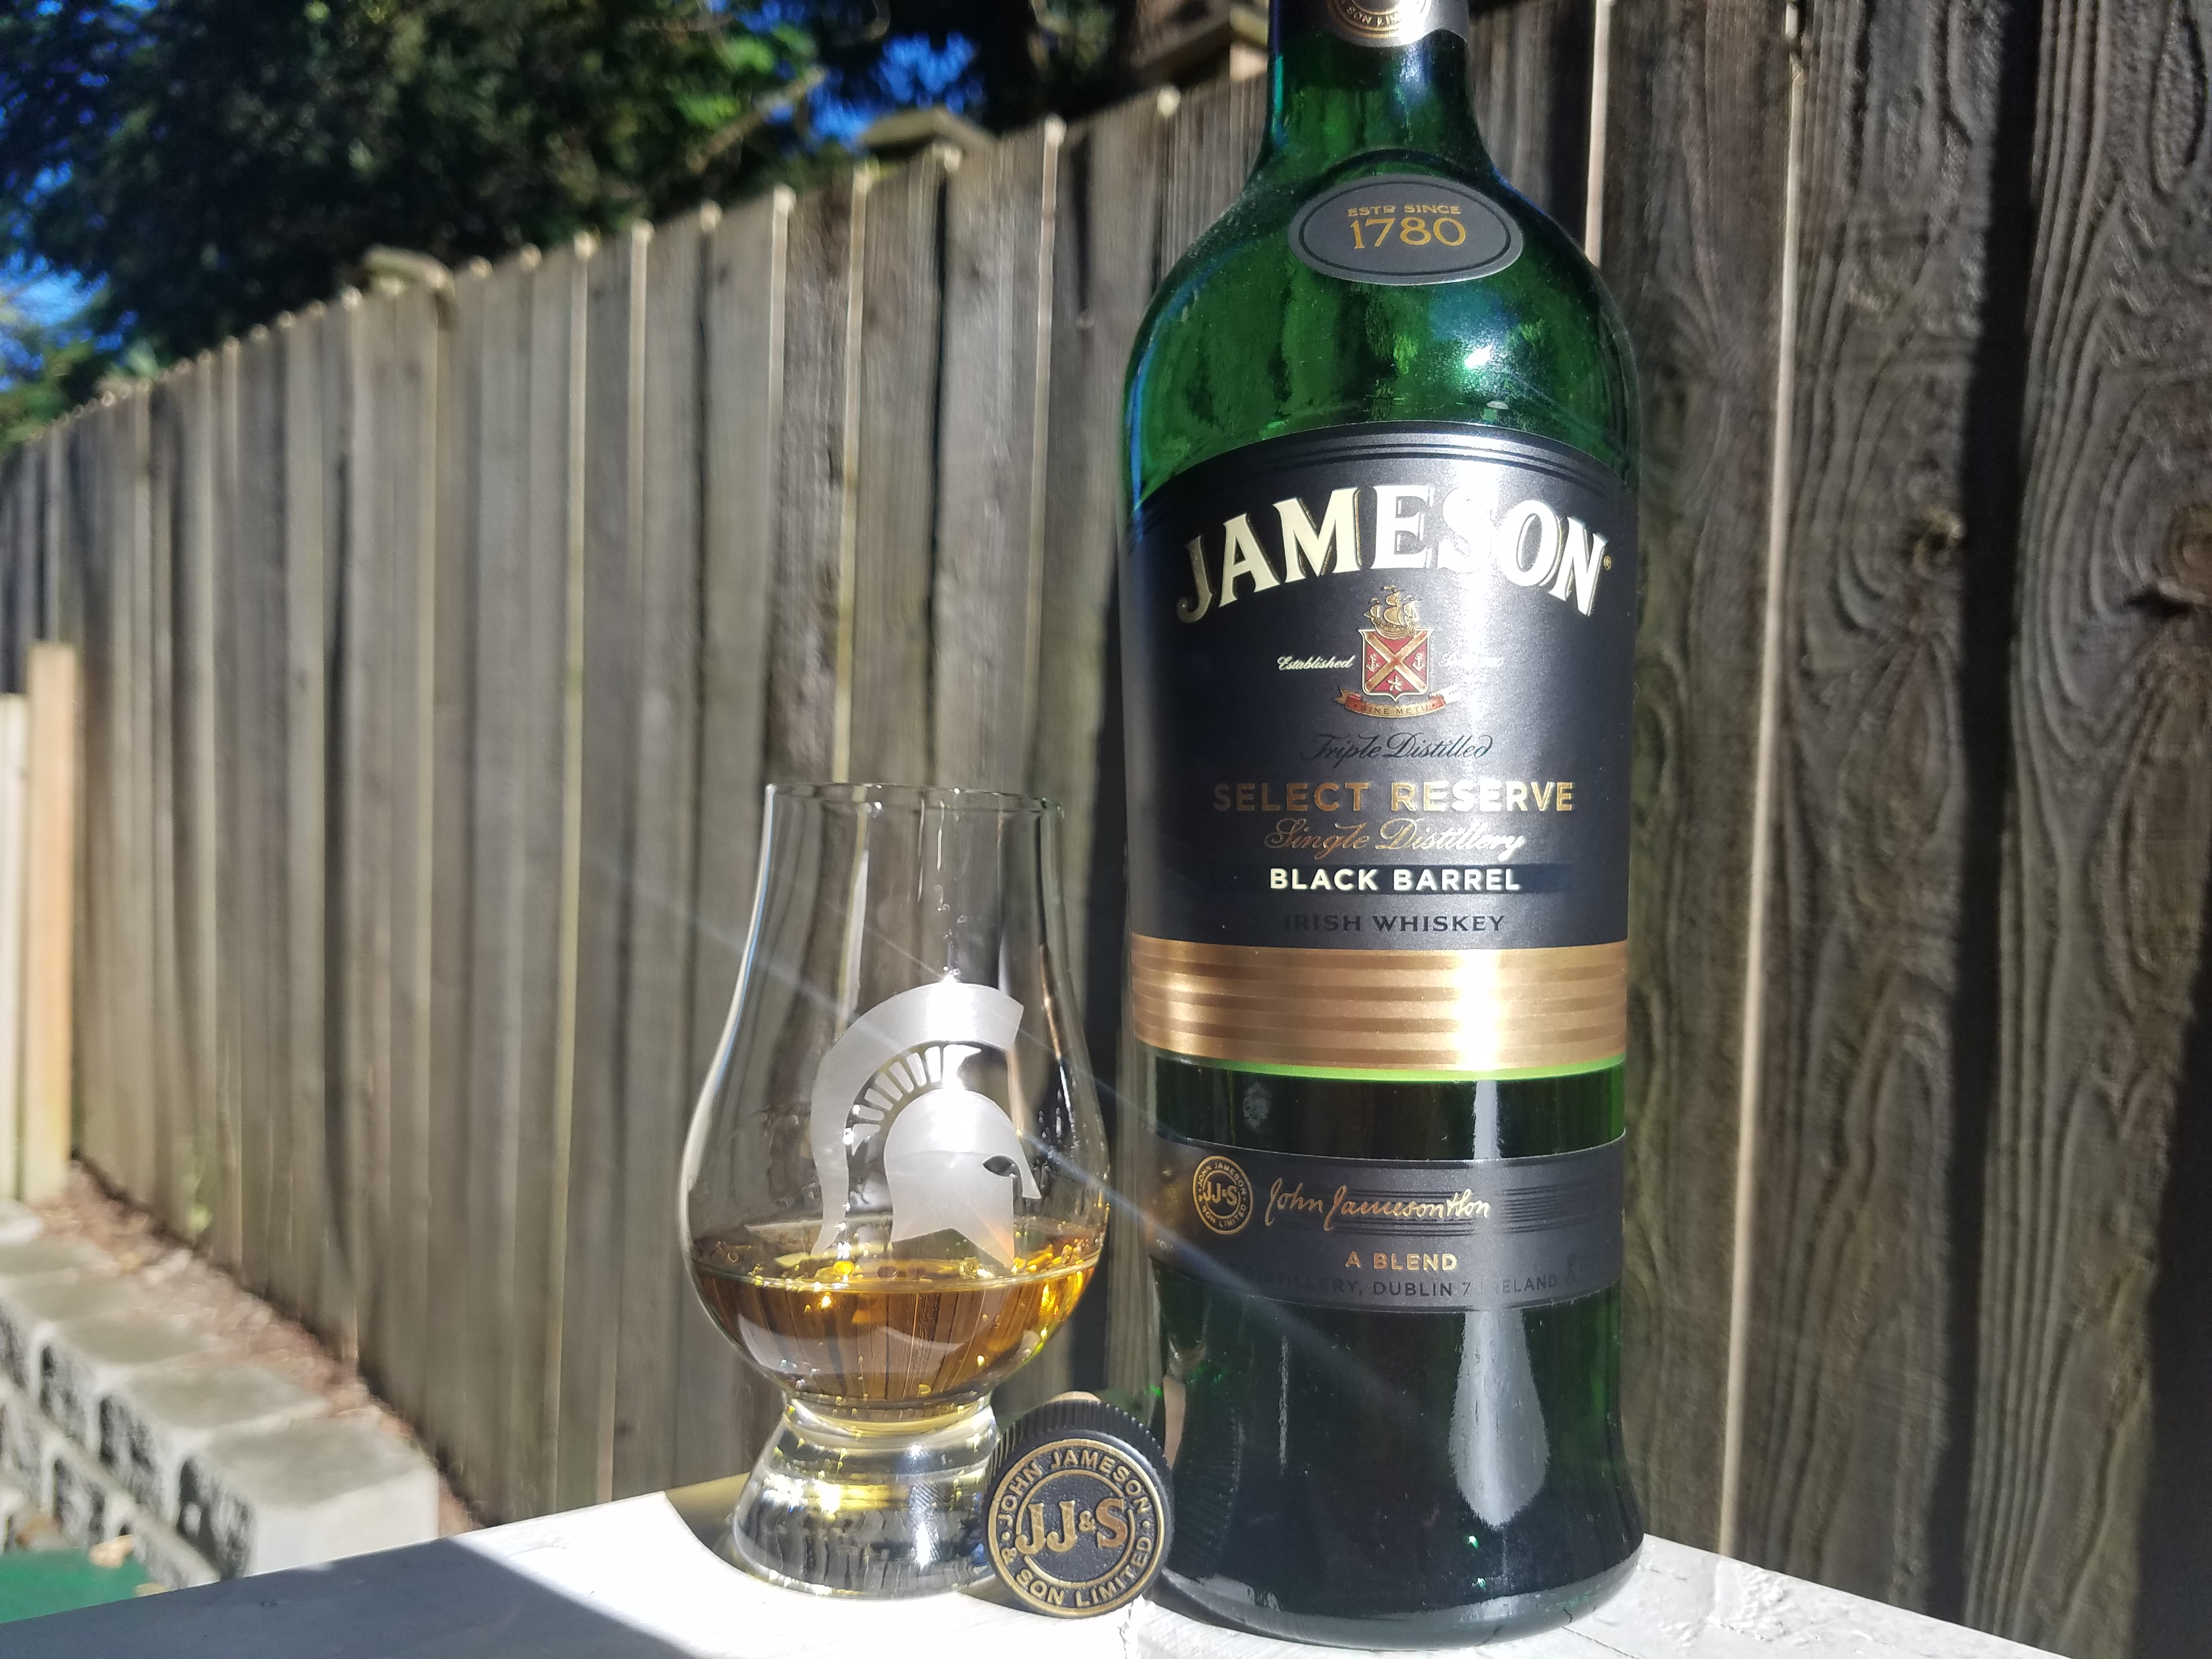Jameson: (1104, 7, 1658, 1659)
